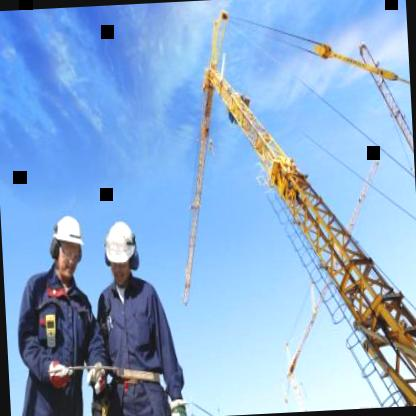helmet: (43, 201, 87, 287), (99, 210, 142, 287)
